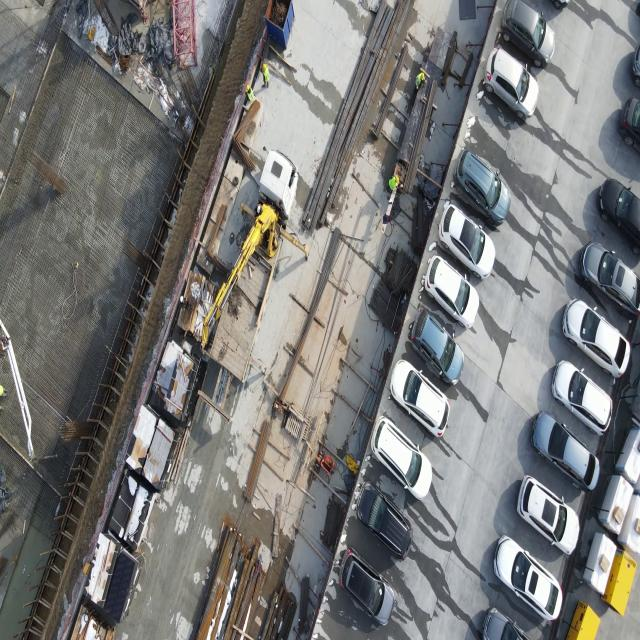p3rson: (386, 174, 404, 192), (178, 295, 194, 314), (414, 71, 427, 94), (261, 63, 269, 88), (244, 83, 254, 101), (0, 384, 8, 398), (254, 203, 263, 215)
